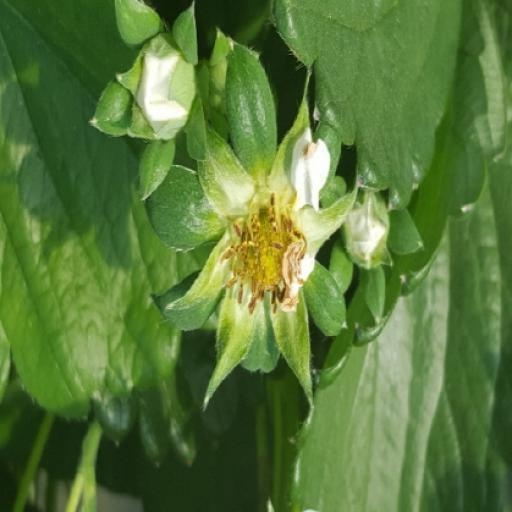Blossom Blight: (204, 196, 295, 320)
